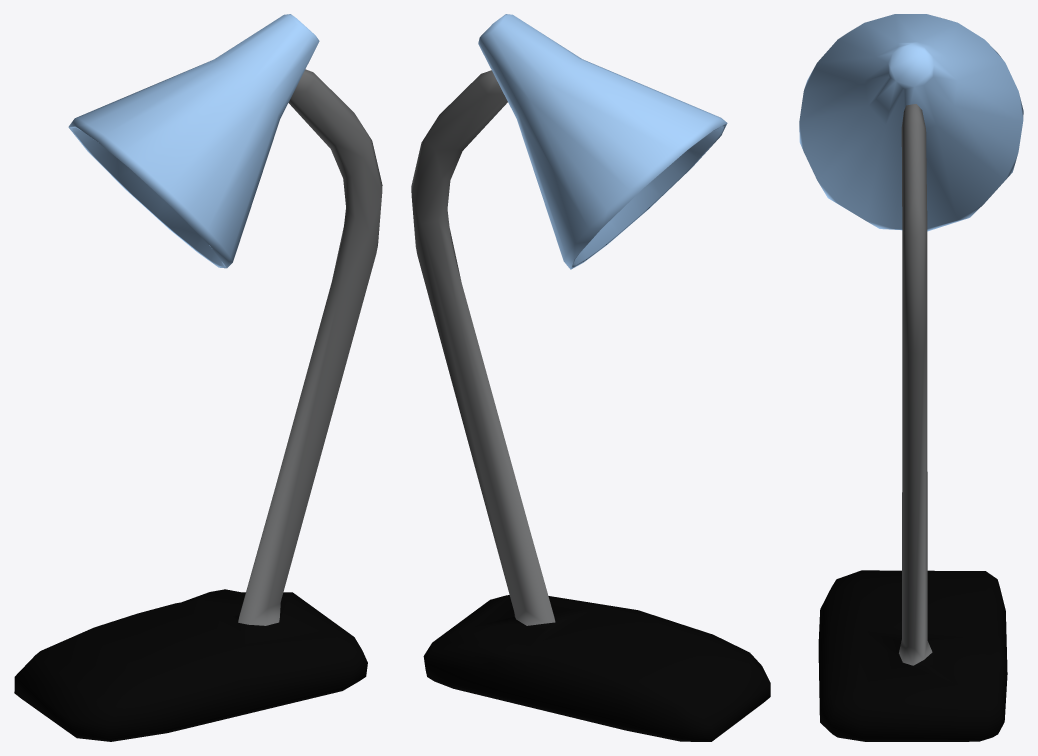
File: Lamp 1.fbx
3 views of the same model, side by side, from view 1: azimuth 30°, elevation 25°; view 2: azimuth 150°, elevation 25°; view 3: azimuth 270°, elevation 25° (orthographic). The views are drawn at different scales.
Parts seen in each view (by area): view 1: lAMP; view 2: lAMP; view 3: lAMP.
Boxes of the visible parts, x1,y1,x2,y2 form: lAMP: (14, 14, 382, 741); lAMP: (411, 14, 770, 741); lAMP: (799, 14, 1023, 741).
Bounding box in the file's own units: 83.38 × 154 × 46.11.
